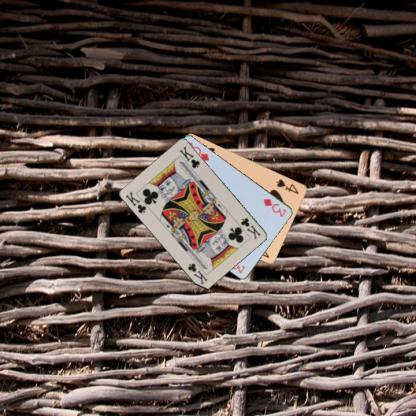3d: (261, 196, 288, 218)
4s: (274, 177, 300, 196)
Kc: (123, 188, 148, 214), (239, 215, 262, 241)
